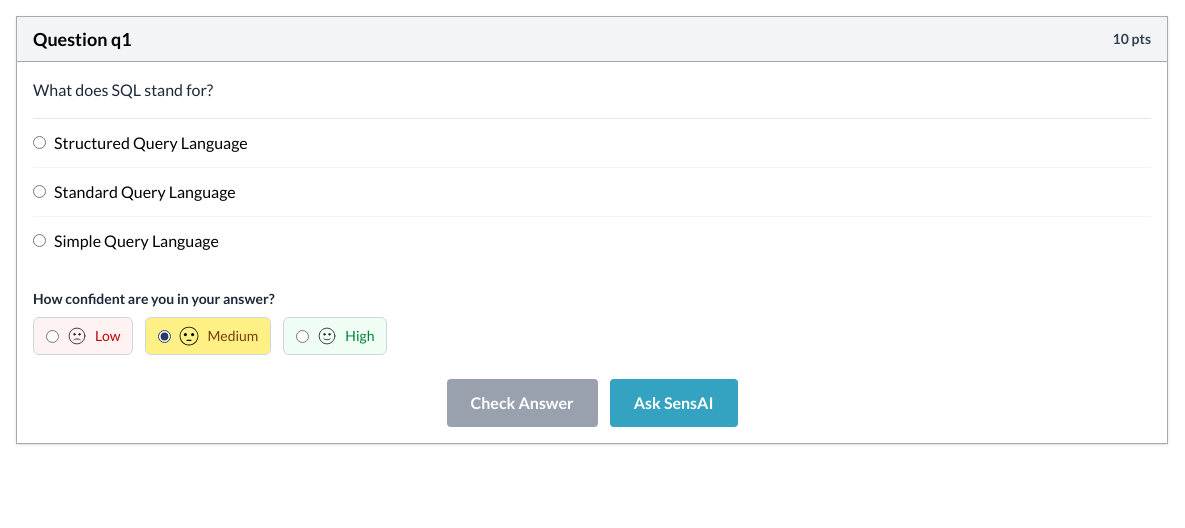
Test case: QuestionCard Component (Student View) › displays feedback after submission
Click the radio button labelled "Structured Query Language". click: (40, 142)
box: [33,136,46,149]
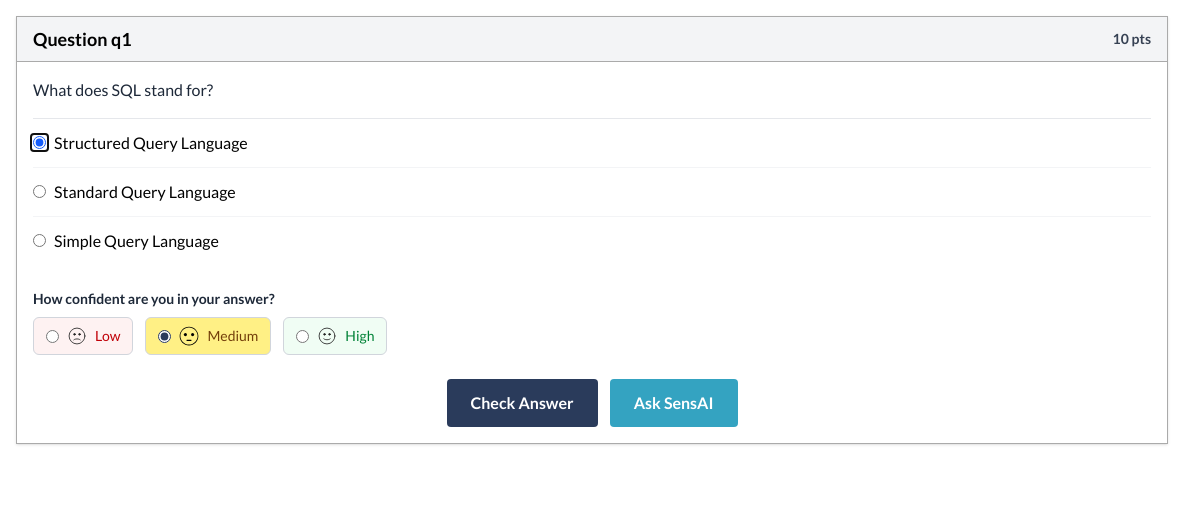
Click the button "Check Answer". click: (522, 403)
box: [446,379,598,427]
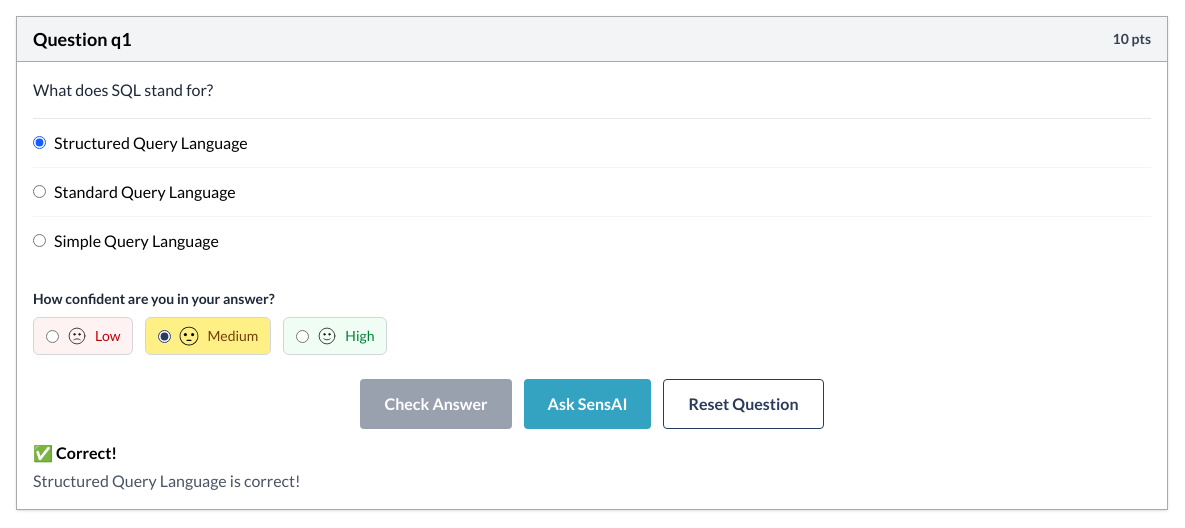
Expected: the text "Structured Query Language is correct!" is shown, [33,471,300,490]
